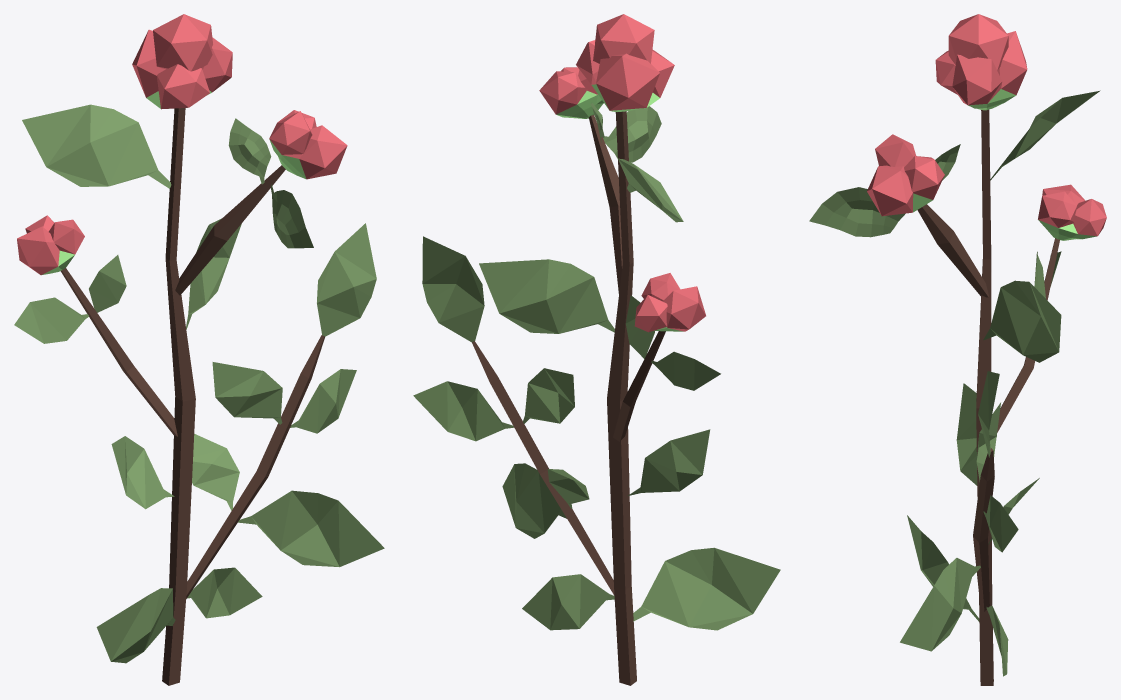
The model's file is Oregano.fbx.
3 renders of one model, left to right at view 1: azimuth 30°, elevation 25°; view 2: azimuth 150°, elevation 25°; view 3: azimuth 270°, elevation 25°, orthographic.
Visible parts, largest first — view 1: Oregano_LOD0; view 2: Oregano_LOD0; view 3: Oregano_LOD0.
Boxes of the visible parts, x1,y1,x2,y2 form: Oregano_LOD0: (14, 14, 384, 685); Oregano_LOD0: (413, 14, 780, 685); Oregano_LOD0: (809, 14, 1106, 685).
Size of what is drawn, in the model's own units: 102 by 197 by 78.93.
